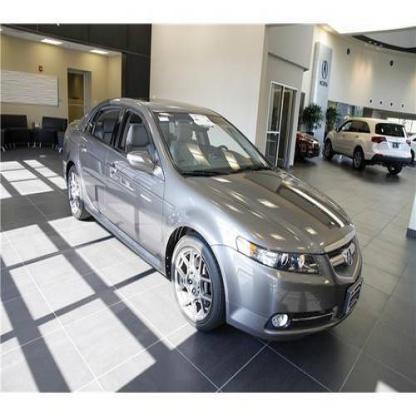Vehicle: (61, 95, 367, 340)
